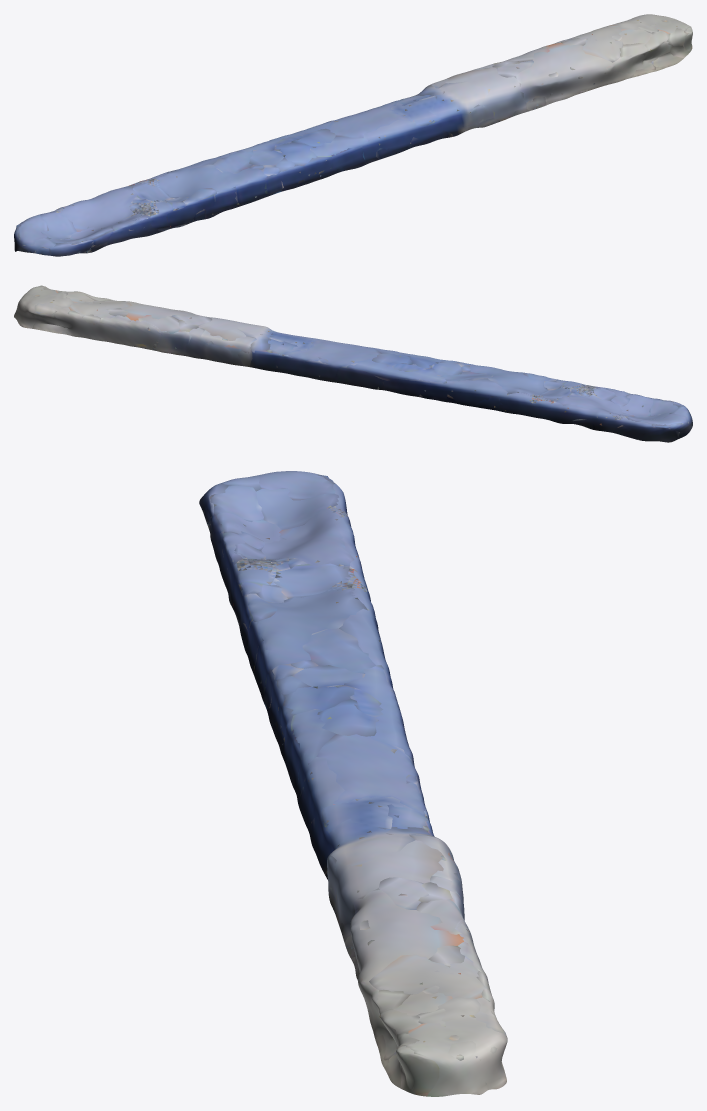
Rendered from scalpel.glb.
3 renders of one model, top to bottom at view 1: azimuth 30°, elevation 25°; view 2: azimuth 150°, elevation 25°; view 3: azimuth 270°, elevation 25°, orthographic. The views are drawn at different scales.
Visible parts, largest first — view 1: Object_2; view 2: Object_2; view 3: Object_2.
Part boxes in pixels (x1,y1,x2,y2): Object_2: (14, 14, 692, 256); Object_2: (14, 285, 692, 442); Object_2: (199, 471, 507, 1096).
Bounding box in the file's own units: 0.3528 × 0.0153 × 0.0751.
1 material, 1 textured.
